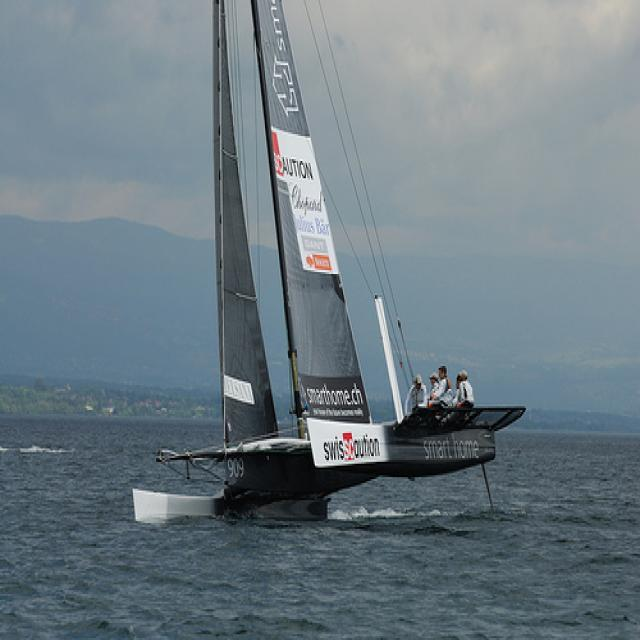Ship: (112, 4, 524, 531)
